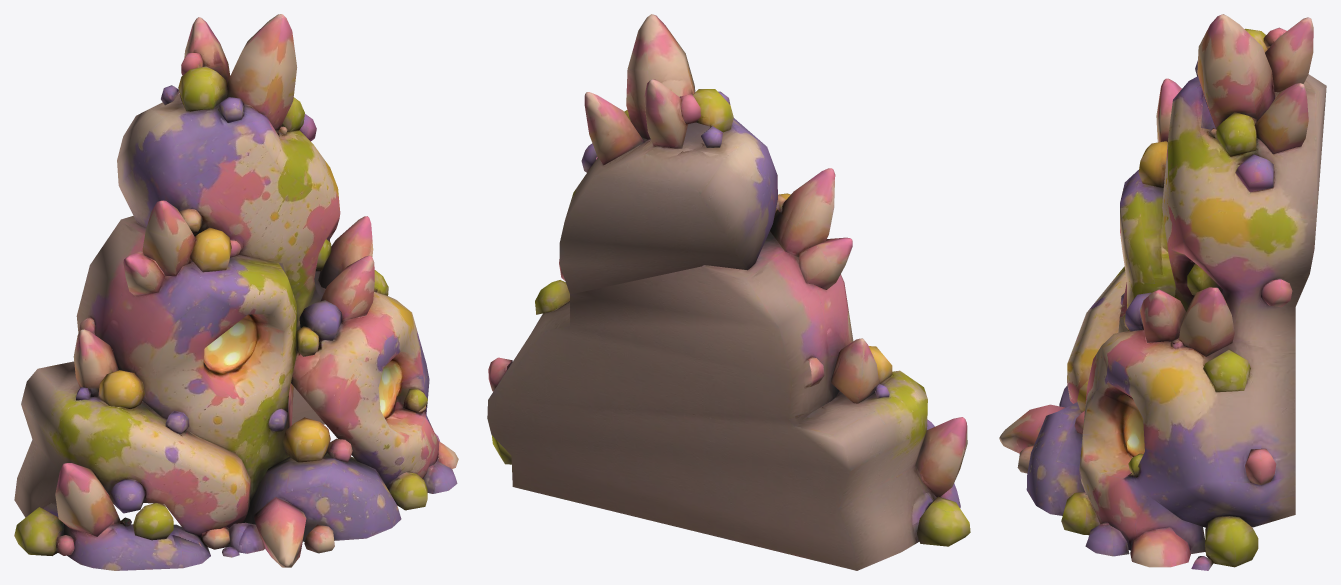
The model's file is alien_rock_02.glb.
3 renders of one model, left to right at view 1: azimuth 30°, elevation 25°; view 2: azimuth 150°, elevation 25°; view 3: azimuth 270°, elevation 25°, orthographic. The views are drawn at different scales.
Visible parts, largest first — view 1: tripo_node_00a1e2d5-ca34-42e6-bfc9-b1653b778e73; view 2: tripo_node_00a1e2d5-ca34-42e6-bfc9-b1653b778e73; view 3: tripo_node_00a1e2d5-ca34-42e6-bfc9-b1653b778e73.
Part boxes in pixels (x1,y1,x2,y2): tripo_node_00a1e2d5-ca34-42e6-bfc9-b1653b778e73: [14, 14, 458, 570]; tripo_node_00a1e2d5-ca34-42e6-bfc9-b1653b778e73: [487, 14, 970, 570]; tripo_node_00a1e2d5-ca34-42e6-bfc9-b1653b778e73: [999, 14, 1326, 570].
Size of the model in its own units: 0.9868 by 0.9995 by 0.6167.
1 material, 1 textured.
